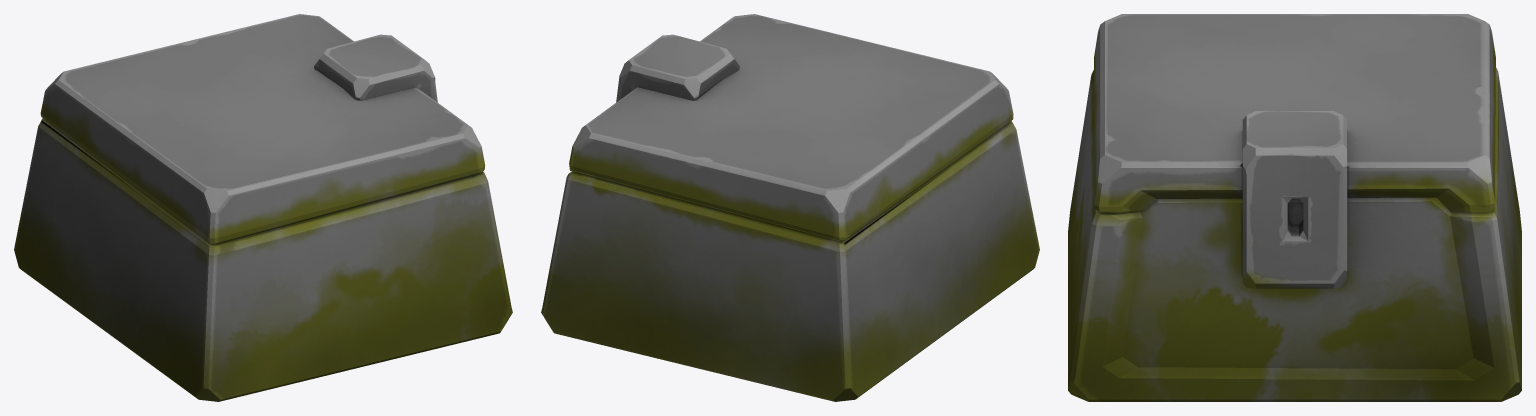
The model's file is Chest.fbx.
The picture shows the model from 3 angles, left to right: view 1: azimuth 30°, elevation 25°; view 2: azimuth 150°, elevation 25°; view 3: azimuth 270°, elevation 25°; orthographic projection. The views are drawn at different scales.
Visible parts, largest first — view 1: Cube, Cube.002, Cube.001; view 2: Cube, Cube.002, Cube.001; view 3: Cube, Cube.002, Cube.001.
Part boxes in pixels (box(x1,y1,x2,y2)): Cube: box(14, 118, 512, 401); Cube.002: box(40, 14, 485, 244); Cube.001: box(314, 34, 437, 102); Cube: box(541, 121, 1039, 401); Cube.002: box(569, 14, 1013, 241); Cube.001: box(616, 34, 739, 102); Cube: box(1068, 67, 1521, 401); Cube.002: box(1094, 14, 1495, 214); Cube.001: box(1242, 111, 1347, 288).
Size of the model in its own units: 152 by 97.78 by 161.
